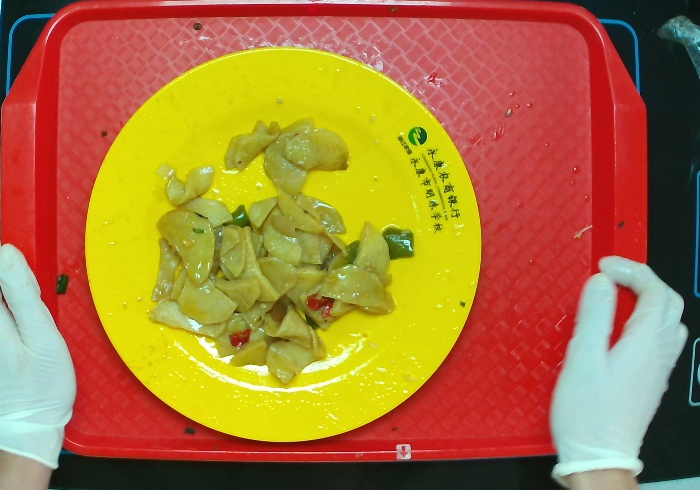YKMZ-Huang_Se_Mian_Pan: (81, 45, 484, 445)
